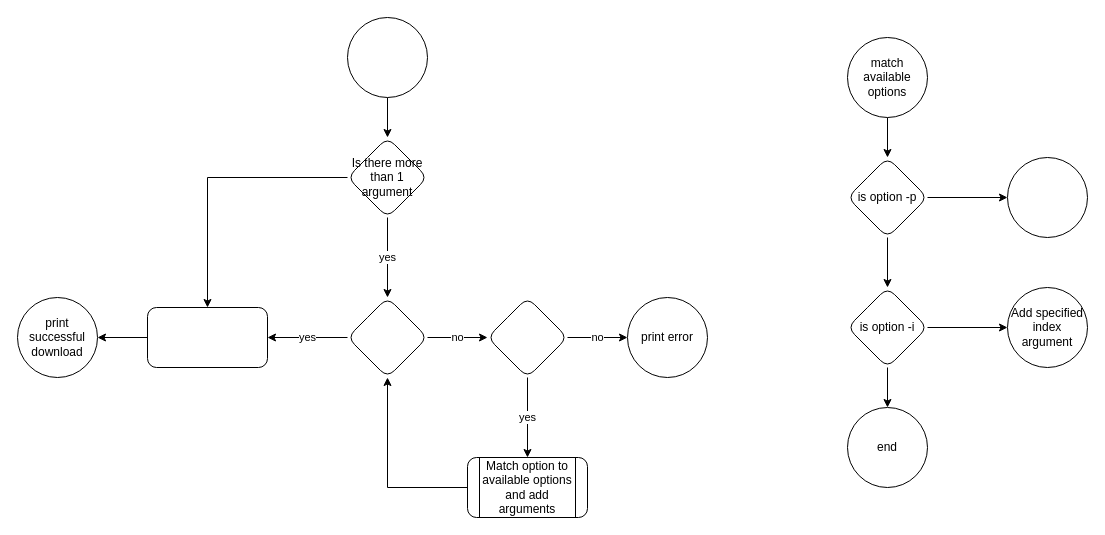
Some shapes in this 1105 by 535 pixel diagram are drawn without their labels. The shapes that lost their labels are listed below. From the top down, each one's box as (x1, y1, x2, y2) in pixels, then its label:
(346, 16, 428, 98): I want to download audio
(1006, 156, 1088, 238): Add playlist argument
(146, 306, 268, 368): put all arguments into yt-dlp
(346, 296, 428, 378): Last extra argument?
(486, 296, 568, 378): is the option valid
